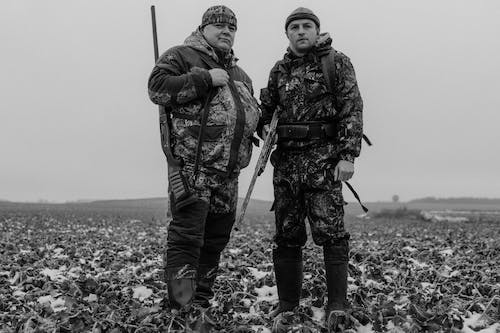gun: (149, 4, 199, 211), (233, 107, 281, 234)
